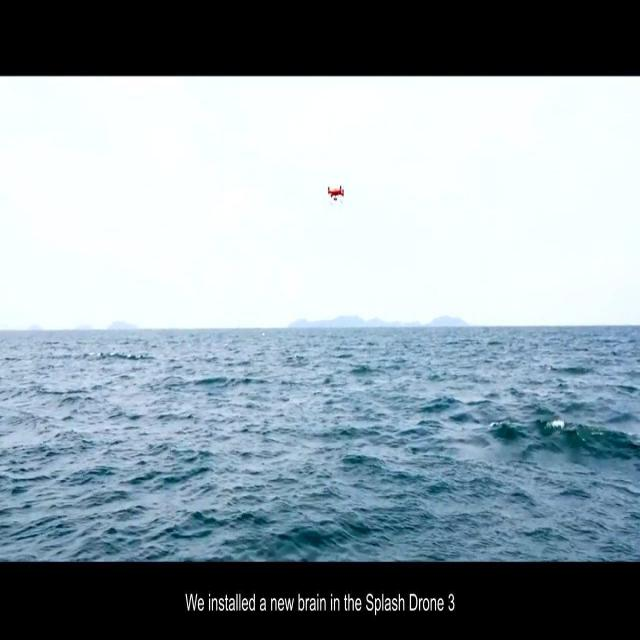UAV: (328, 185, 344, 205)
